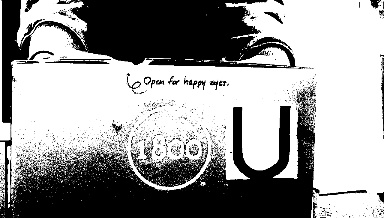U: (226, 103, 296, 176)
